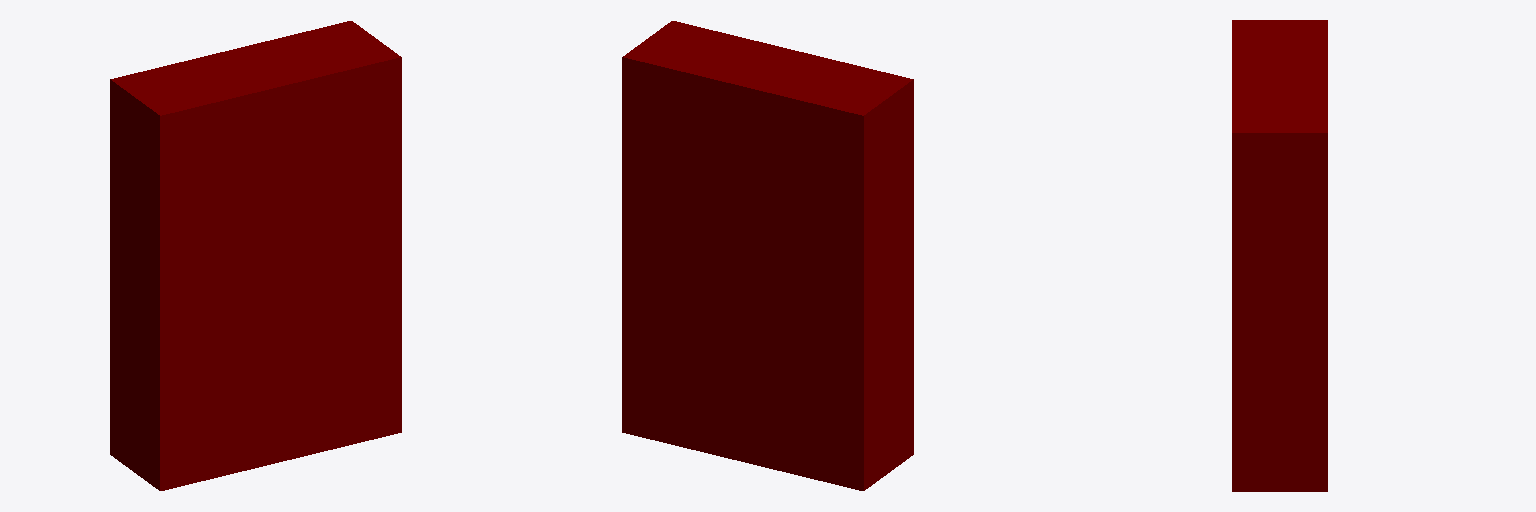
The robot description file, URDF, robot "cornflakes-box":
<?xml version="1.0" ?>
<!-- =================================================================================== -->
<!-- |    This document was autogenerated by xacro from model.urdf.xml                 | -->
<!-- |    EDITING THIS FILE BY HAND IS NOT RECOMMENDED                                 | -->
<!-- =================================================================================== -->
<robot name="cornflakes-box" xmlns:controller="http://playerstage.sourceforge.net/gazebo/xmlschema/#controller" xmlns:interface="http://playerstage.sourceforge.net/gazebo/xmlschema/#interface" xmlns:sensor="http://playerstage.sourceforge.net/gazebo/xmlschema/#sensor" xmlns:xacro="http://www.ros.org/wiki/xacro">
  <material name="WallLightGrey">
    <color rgba="0.9 0.9 0.9 1"/>
  </material>
  <material name="RackDarkGrey">
    <color rgba="0.2 0.2 0.2 1"/>
  </material>
  <material name="PlainGrey">
    <color rgba="0.5 0 0 1"/>
  </material>
  <link name="link">
    <visual>
      <origin rpy="0 0 0" xyz="0 0 0"/>
      <geometry>
        <box size="0.195 0.07 0.29"/>
      </geometry>
      <material name="PlainGrey"/>
    </visual>
    <collision>
      <origin rpy="0 0 0" xyz="0 0 0"/>
      <contact_coefficients mu="1.0"/>
      <geometry>
        <box size="0.195 0.07 0.29"/>
      </geometry>
      <surface>
        <friction>
          <ode>
            <mu>1</mu>
            <mu2>1</mu2>
          </ode>
        </friction>
      </surface>
    </collision>
    <inertial>
      <mass value="0.5"/>
      <inertia ixx="0.00370833333333" ixy="0" ixz="0" iyy="0.00508854166667" iyz="0" izz="0.00178854166667"/>
    </inertial>
  </link>
</robot>

--- Facts derived from the render (not from the file) ---
Views: 3 orthographic renders of the robot side by side, from view 1: azimuth 30°, elevation 25°; view 2: azimuth 150°, elevation 25°; view 3: azimuth 270°, elevation 25°.
Robot: cornflakes-box — 1 links, 0 joints (none); root link link; default pose: every joint at zero.
Visible links, largest first — view 1: link; view 2: link; view 3: link.
Boxes of the visible links, x1,y1,x2,y2 form: link: (110, 21, 401, 490); link: (622, 21, 913, 490); link: (1232, 20, 1327, 491).
Bounding box of the posed robot: 0.195 × 0.07 × 0.29 m (x, y, z).
Geometry: primitives only (box / cylinder / sphere), no mesh files.